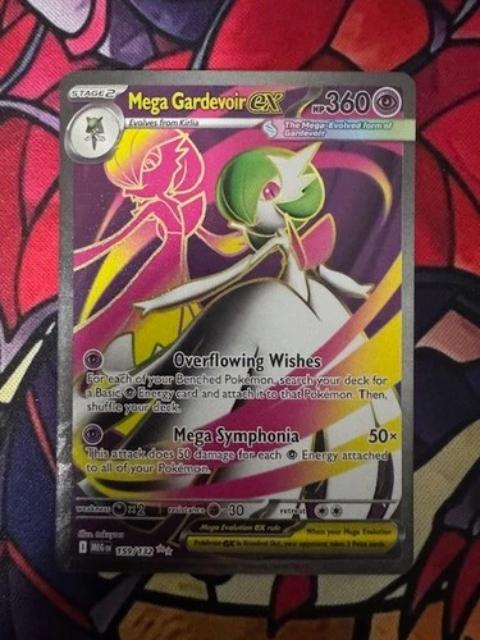Card: (47, 64, 417, 580)
Name: (124, 83, 285, 115)
